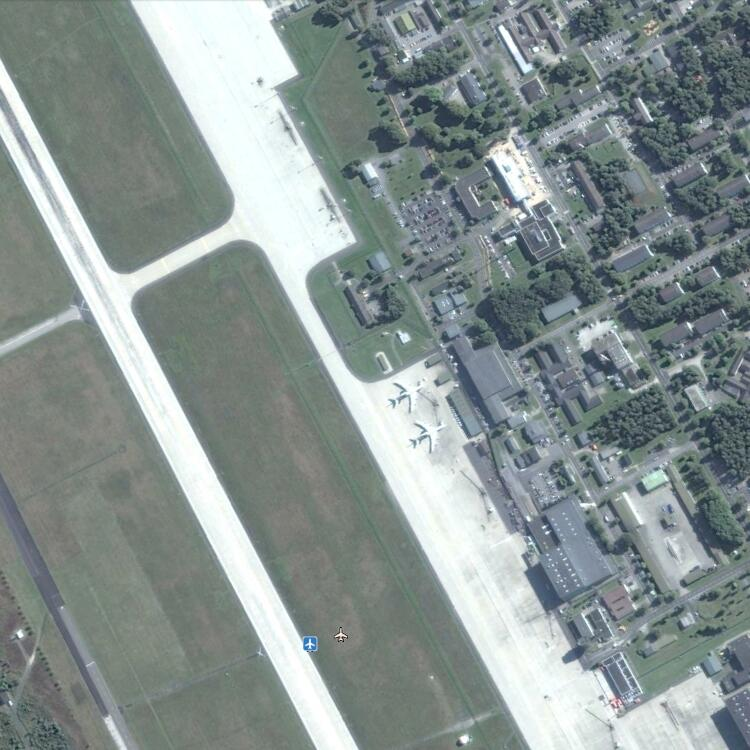A7: (388, 376, 426, 416), (410, 418, 447, 454)
